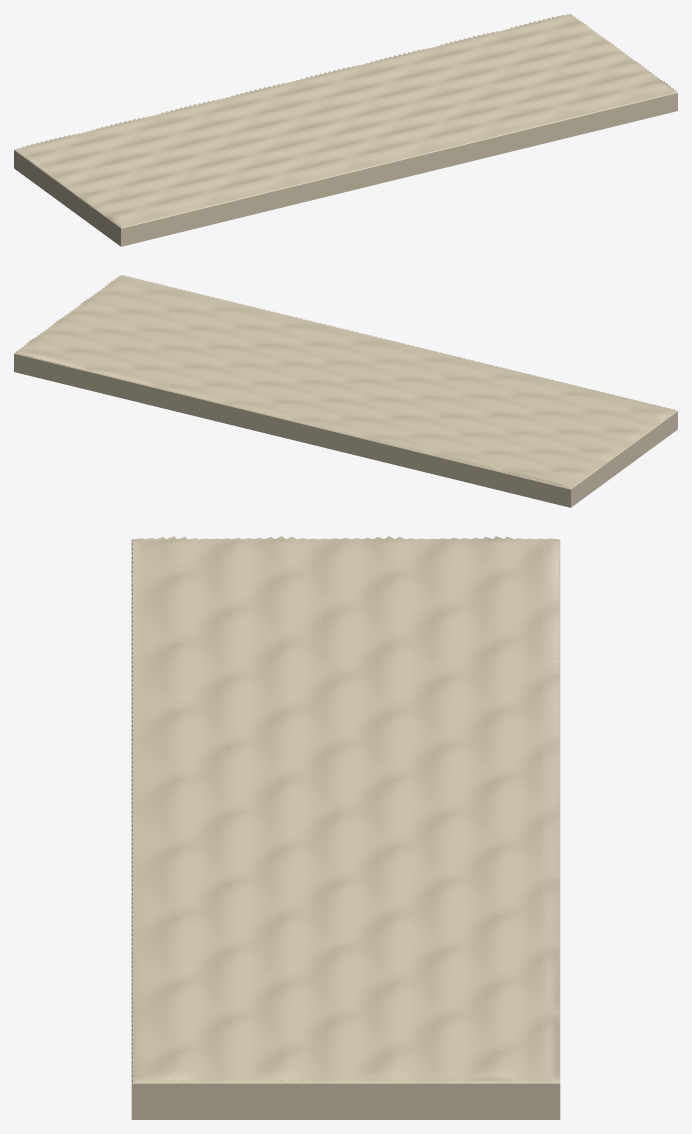
File: mahsulot.glb
3 views of the same model, one above another, from view 1: azimuth 30°, elevation 25°; view 2: azimuth 150°, elevation 25°; view 3: azimuth 270°, elevation 25° (orthographic). The views are drawn at different scales.
Parts seen in each view (by area): view 1: mahsulot; view 2: mahsulot; view 3: mahsulot.
Boxes of the visible parts, bbox=[...] form: mahsulot: bbox=[14, 14, 677, 246]; mahsulot: bbox=[14, 275, 677, 507]; mahsulot: bbox=[131, 536, 560, 1119].
Bounding box in the file's own units: 1.2 × 0.0432 × 0.4.
